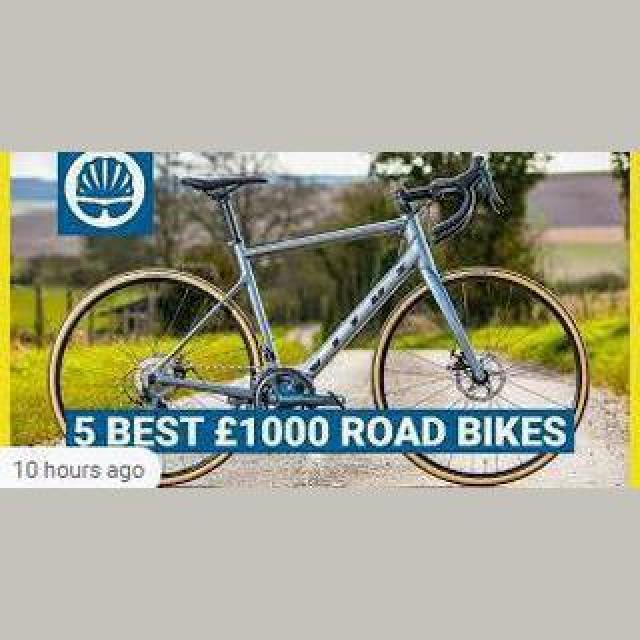Person: (48, 156, 590, 488)
